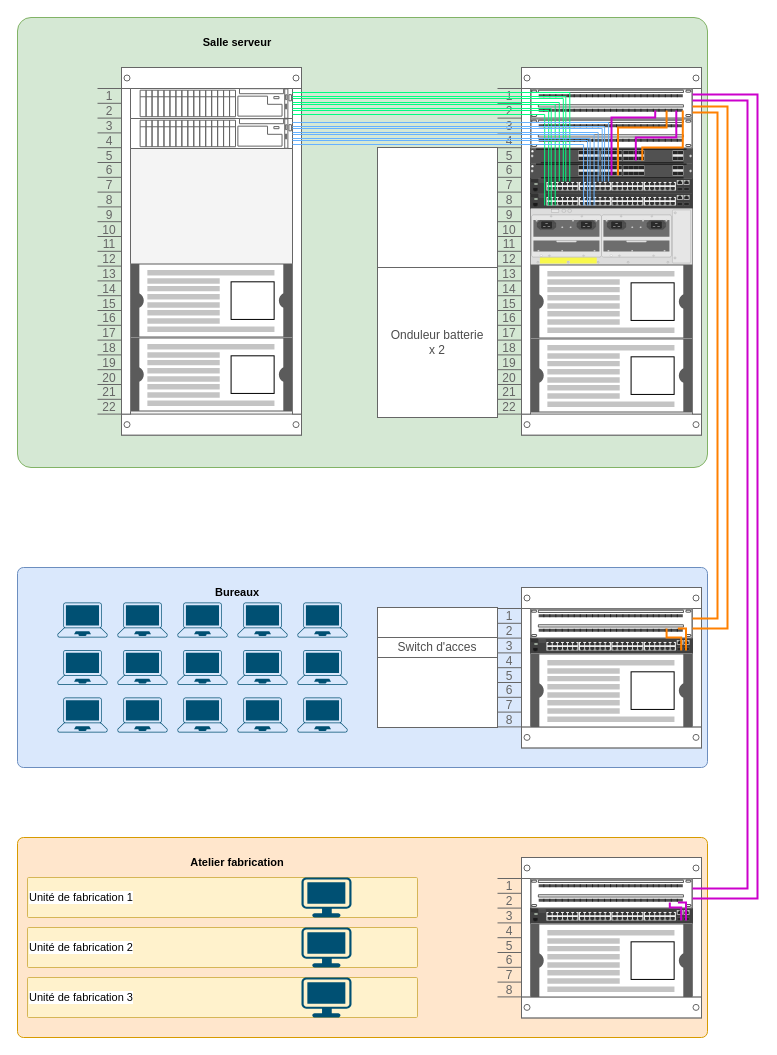
Some shapes in this 777 by 1055 pixel diagram are drawn without their labels. Here are the shapes that lost their labels. From the top down, the centre of each, then its label:
the point at 437,207: Coeur de reseau modulaire 2 x 24 SFP+ 2 x 48 Gigabit Eth.
the point at 437,622: Bandeaux de brassage
the point at 437,692: Onduleur batterie
